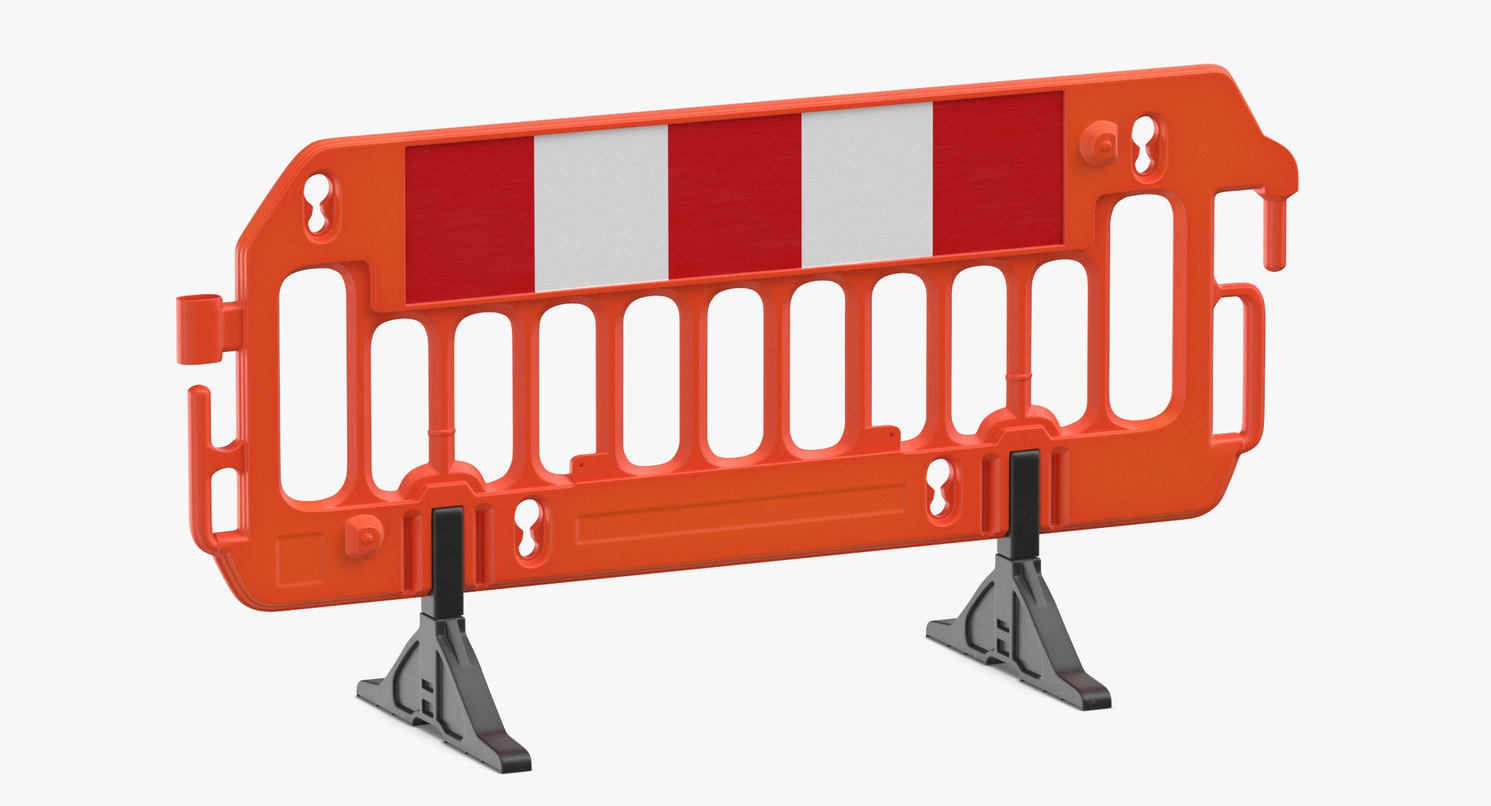Barrier: (111, 35, 1406, 783)
